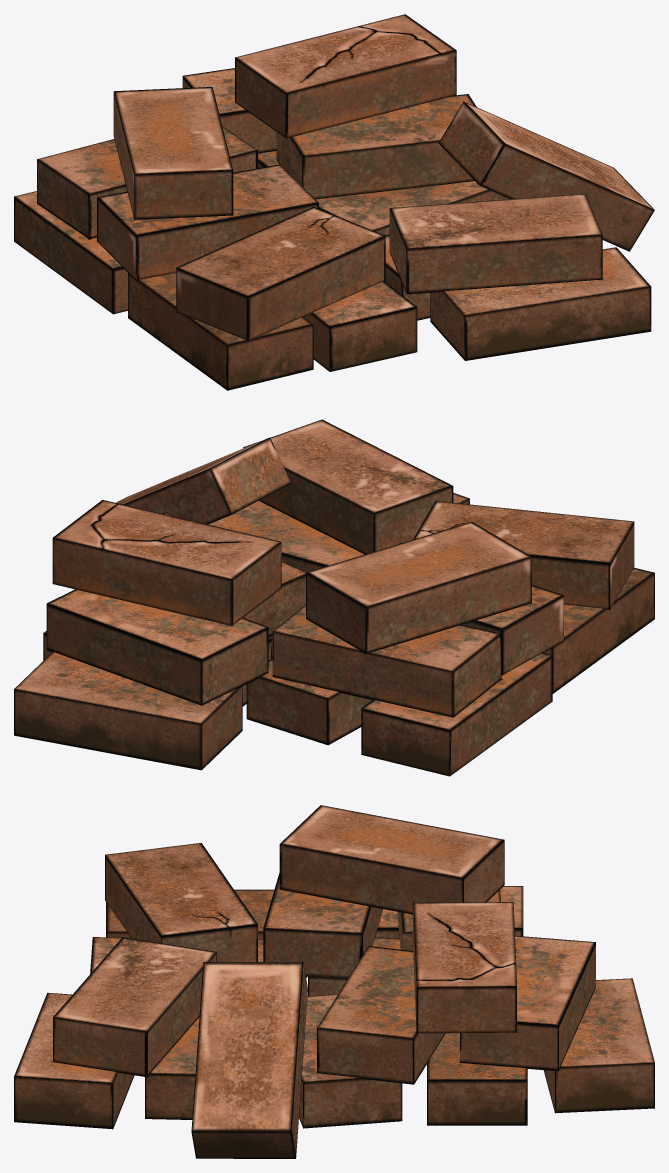
The model's file is SM_Tilepile_Big.fbx.
3 renders of one model, top to bottom at view 1: azimuth 30°, elevation 25°; view 2: azimuth 150°, elevation 25°; view 3: azimuth 270°, elevation 25°, orthographic. The views are drawn at different scales.
Parts seen in each view (by area): view 1: SM_Tilepile_Big; view 2: SM_Tilepile_Big; view 3: SM_Tilepile_Big.
Part boxes in pixels (x1,y1,x2,y2): SM_Tilepile_Big: [14, 14, 654, 390]; SM_Tilepile_Big: [14, 419, 654, 776]; SM_Tilepile_Big: [14, 805, 654, 1158].
Size of the model in its own units: 62.05 by 16.99 by 70.07.
